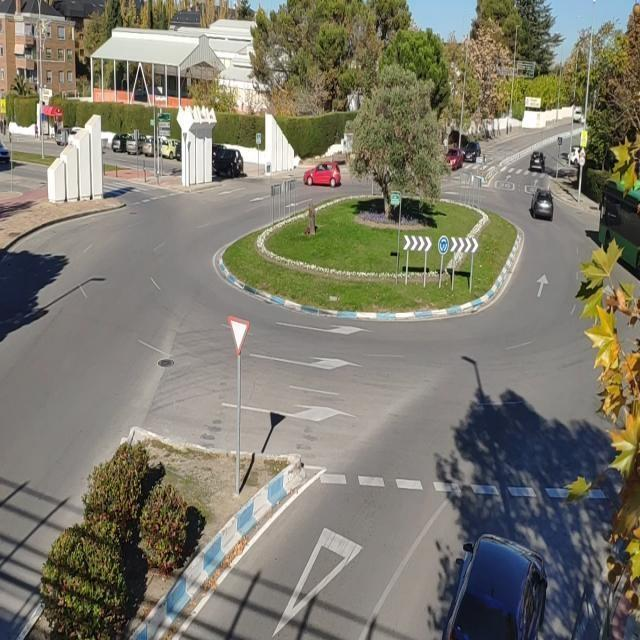Bus: (596, 178, 640, 282)
Car: (439, 531, 550, 640), (303, 162, 341, 186), (529, 191, 555, 220), (462, 142, 482, 163), (529, 151, 548, 173), (446, 150, 462, 170)
